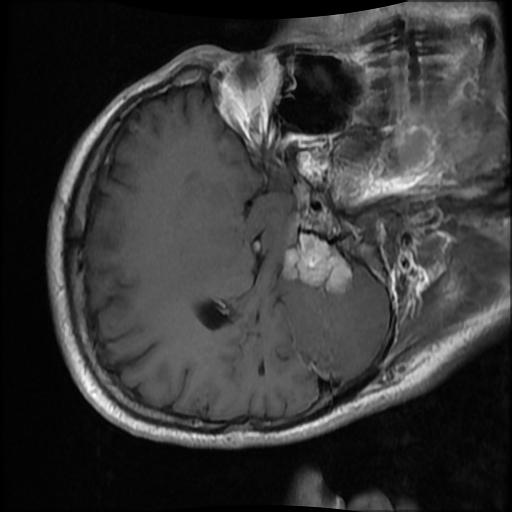meningioma: (279, 231, 350, 294)
